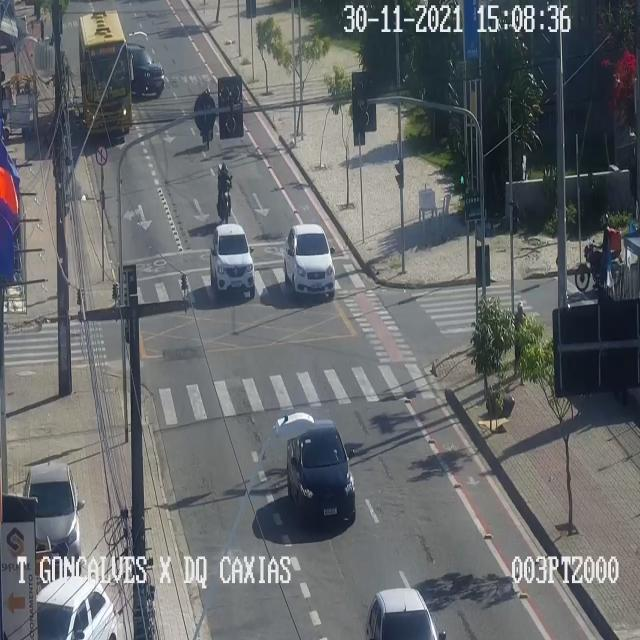Bus: (78, 10, 132, 132)
Car: (287, 419, 355, 521), (25, 463, 81, 573), (36, 576, 116, 639), (365, 588, 437, 639), (284, 223, 334, 296), (210, 223, 254, 296), (126, 43, 164, 97)
Motorcycle: (575, 213, 621, 290), (216, 162, 230, 222), (200, 87, 213, 149)
